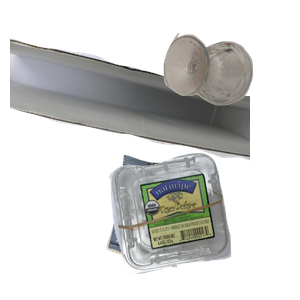cardboard: (10, 35, 250, 188)
glass: (161, 30, 300, 128)
plastic: (106, 151, 300, 300)
trash: (104, 152, 280, 300)
